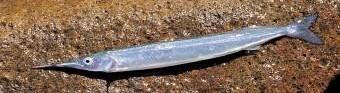fish: (37, 14, 324, 73)
